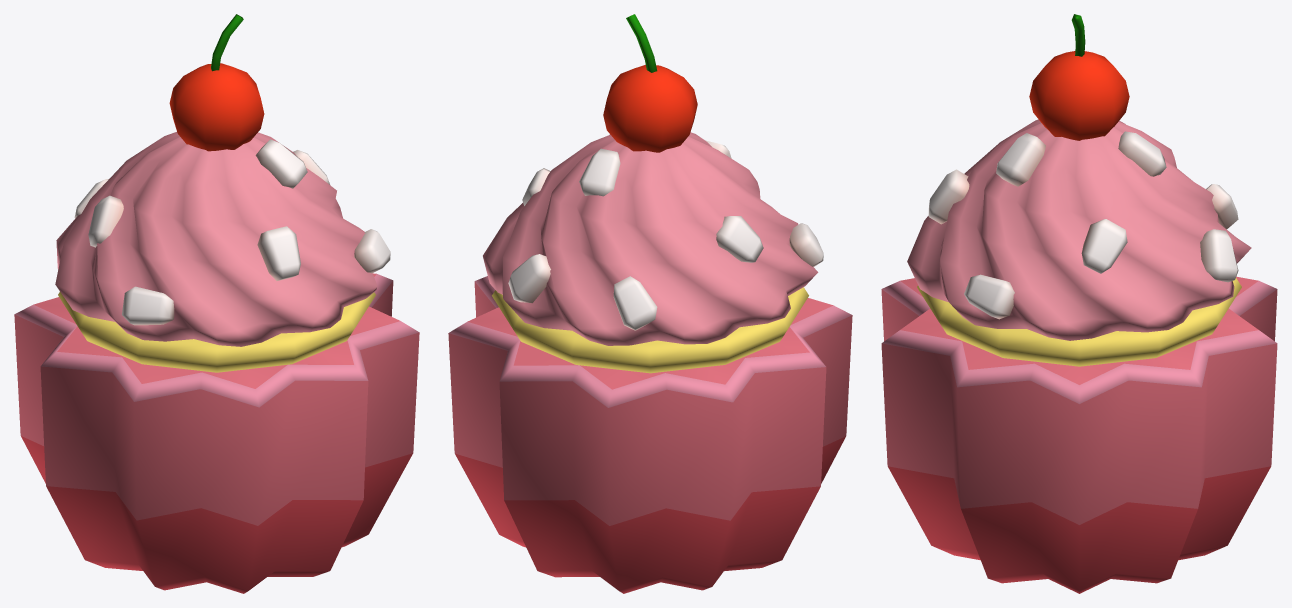
File: IceCreamStrawberry.fbx
The picture shows the model from 3 angles, left to right: view 1: azimuth 30°, elevation 25°; view 2: azimuth 150°, elevation 25°; view 3: azimuth 270°, elevation 25°; orthographic projection. The views are drawn at different scales.
Parts seen in each view (by area): view 1: Map02_Kem_LV3; view 2: Map02_Kem_LV3; view 3: Map02_Kem_LV3.
Boxes of the visible parts, <box> form: Map02_Kem_LV3: <box>14,14,419,593</box>; Map02_Kem_LV3: <box>448,14,852,593</box>; Map02_Kem_LV3: <box>881,14,1277,593</box>.
Bounding box in the file's own units: 56.14 × 79.35 × 53.4.
